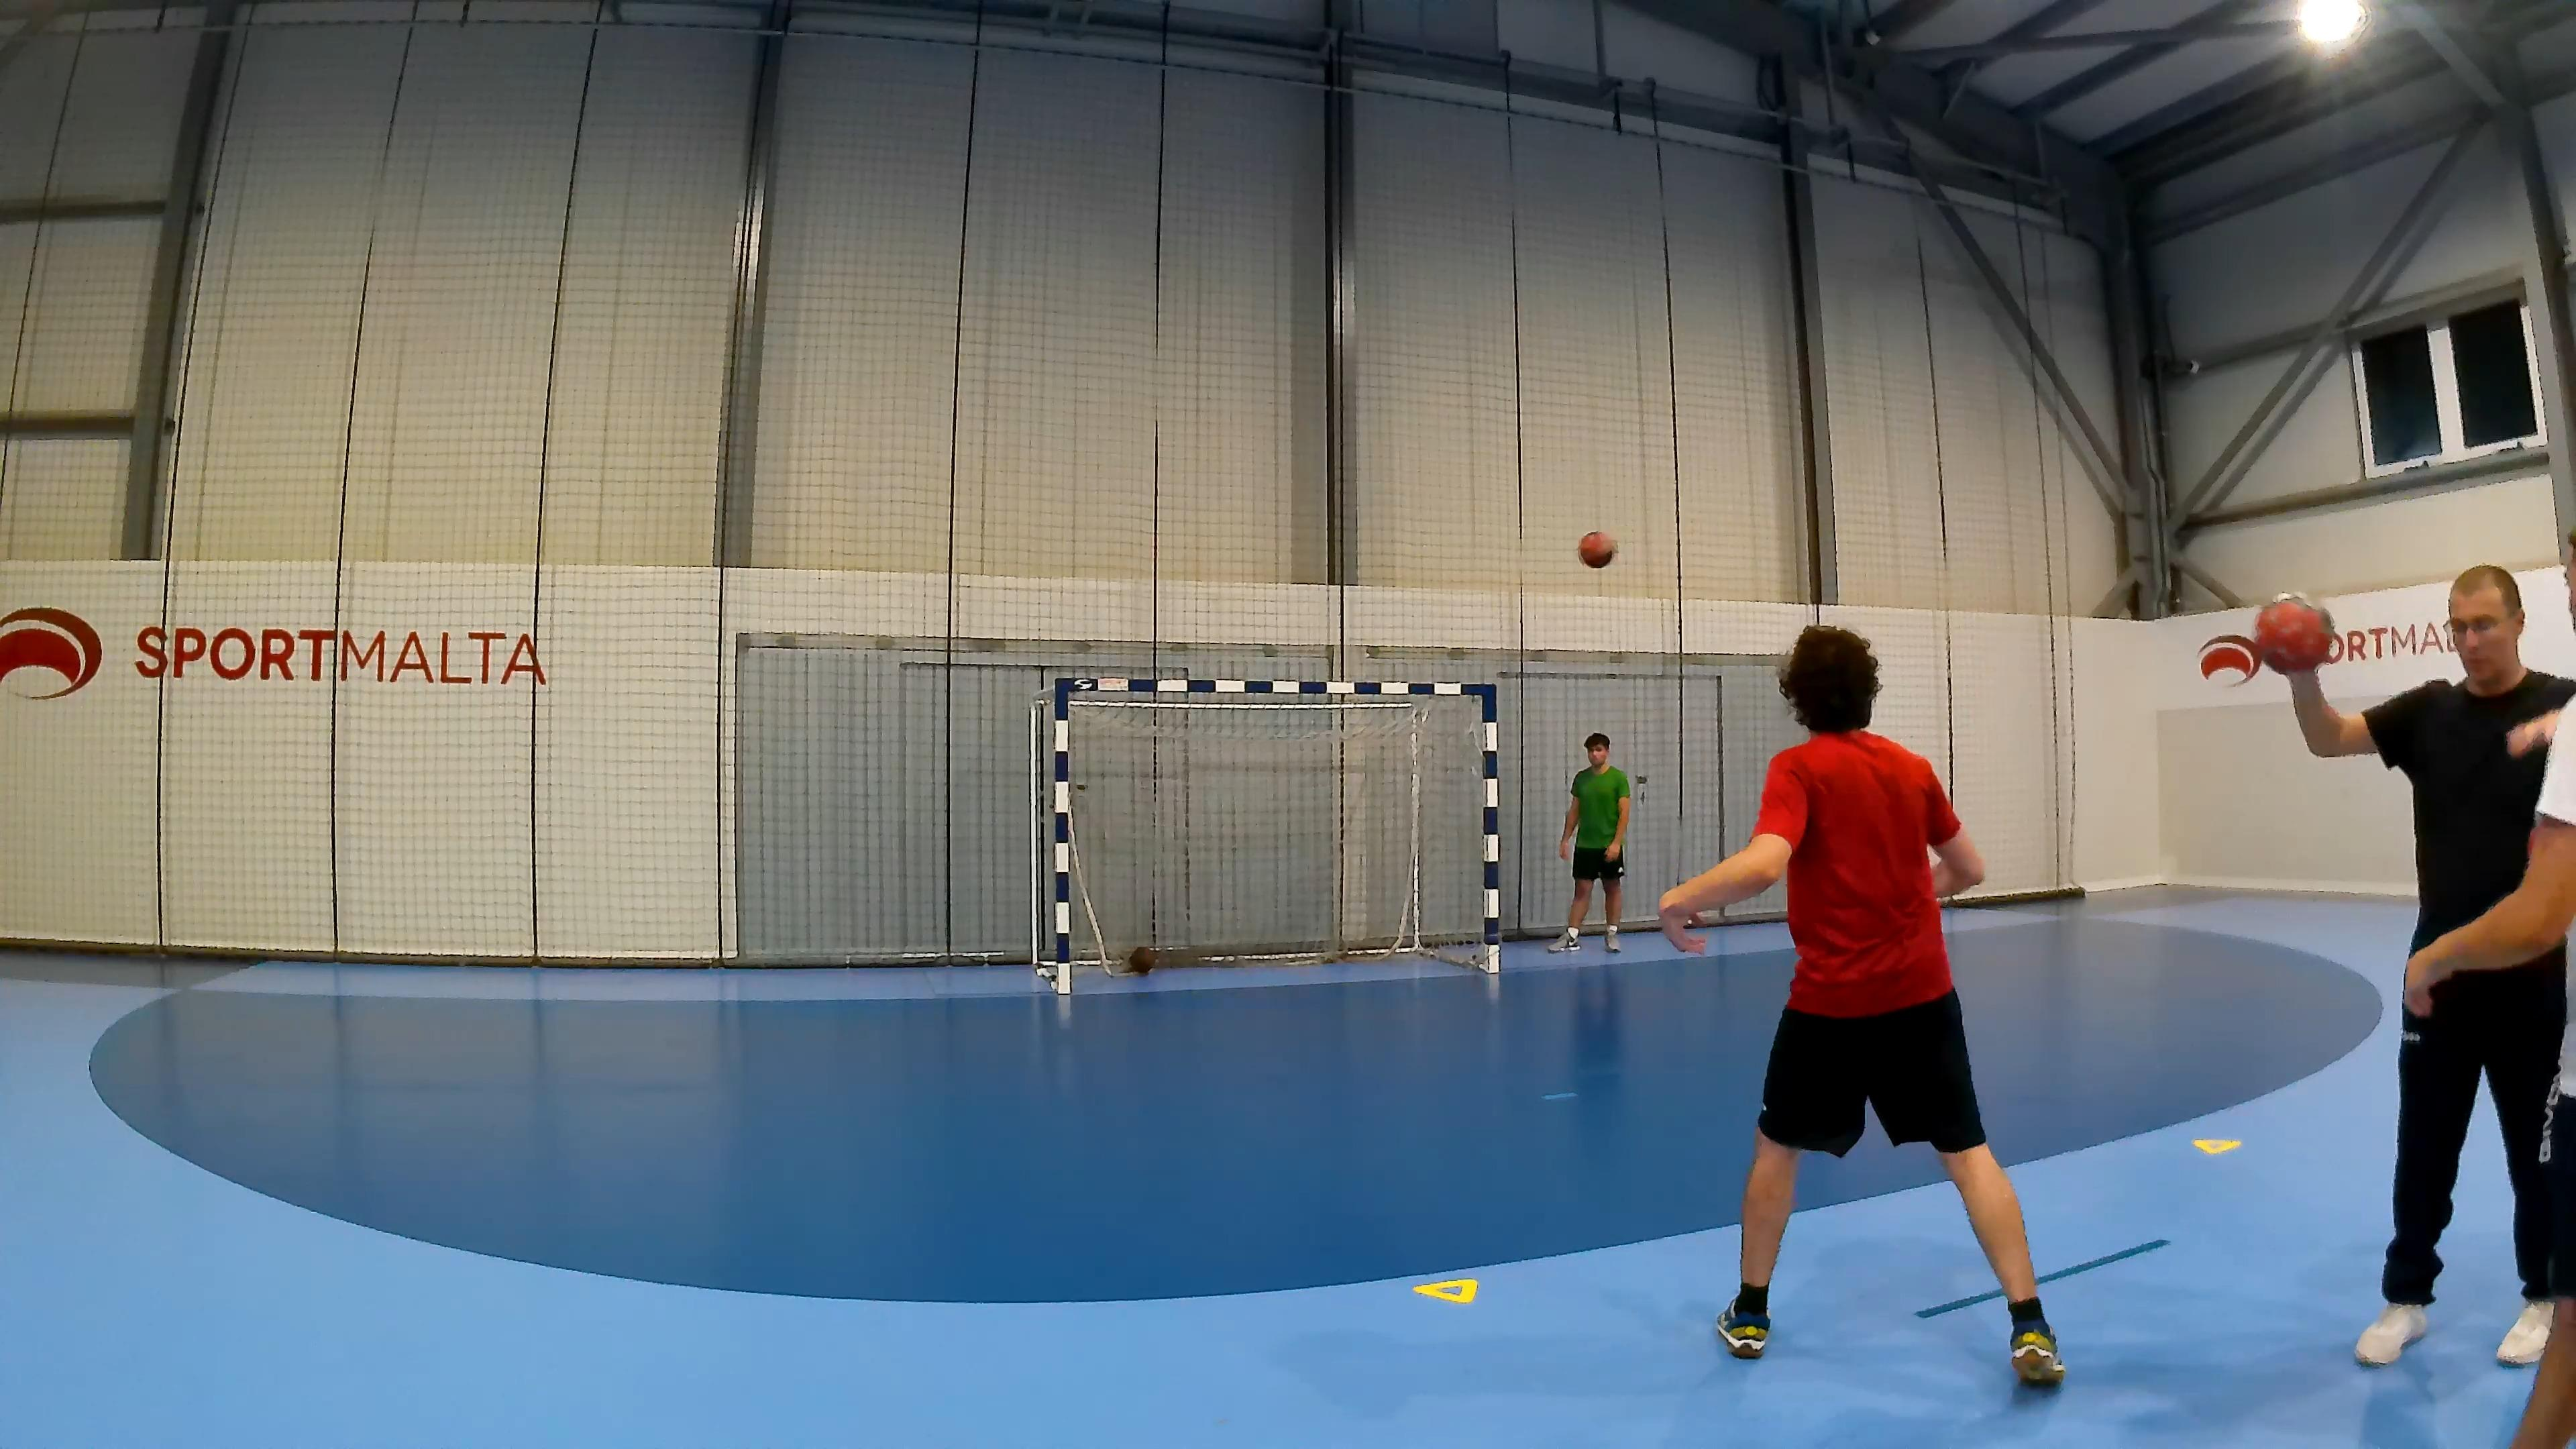handball: (2252, 591, 2335, 672), (1576, 531, 1615, 568)
